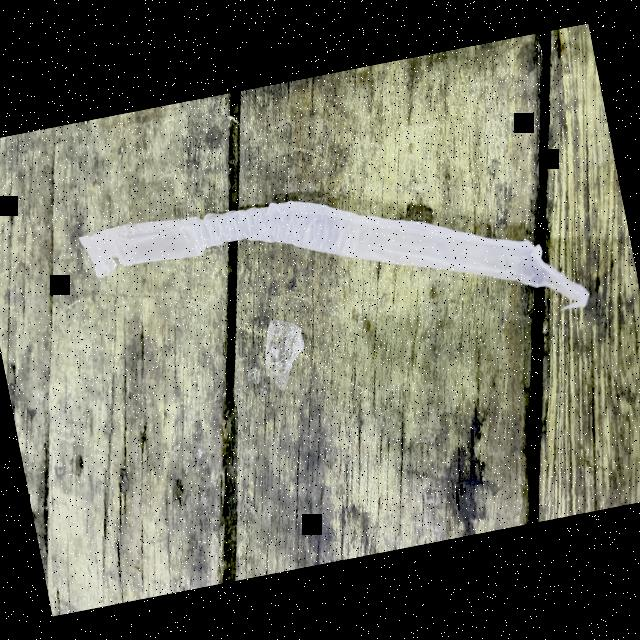scrap_plastic: (72, 142, 592, 414)
